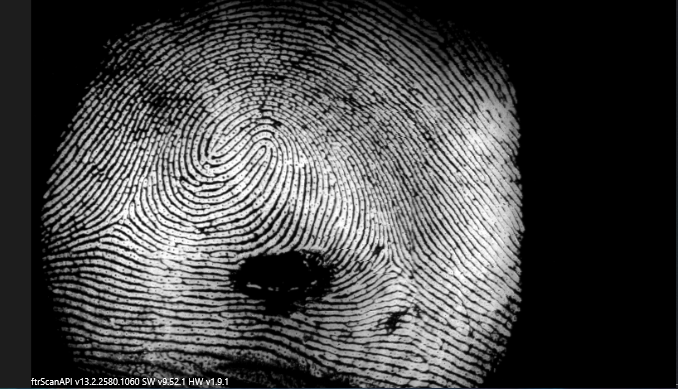nucelo: (252, 141, 276, 161)
verticilo: (381, 256, 399, 277), (112, 207, 131, 226)
